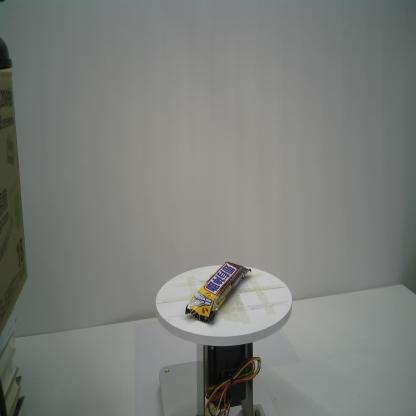Chocolate: (185, 262, 251, 324)
